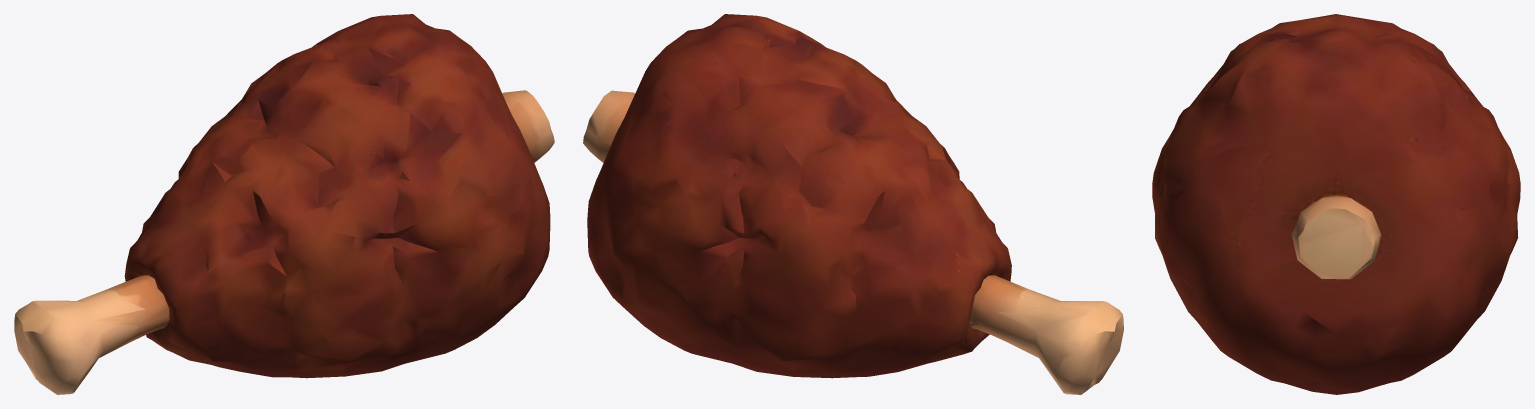
The model's file is meat_cooked_zharenoe_idle.glb.
The picture shows the model from 3 angles, left to right: view 1: azimuth 30°, elevation 25°; view 2: azimuth 150°, elevation 25°; view 3: azimuth 270°, elevation 25°; orthographic projection. The views are drawn at different scales.
Visible parts, largest first — view 1: tripo_node_a4e962f5-7452-4f3d-945a-470e694f3204; view 2: tripo_node_a4e962f5-7452-4f3d-945a-470e694f3204; view 3: tripo_node_a4e962f5-7452-4f3d-945a-470e694f3204.
Part boxes in pixels (left/top/right/bottom): tripo_node_a4e962f5-7452-4f3d-945a-470e694f3204: left=14, top=14, right=554, bottom=394; tripo_node_a4e962f5-7452-4f3d-945a-470e694f3204: left=583, top=14, right=1123, bottom=394; tripo_node_a4e962f5-7452-4f3d-945a-470e694f3204: left=1152, top=14, right=1520, bottom=394.
Size of the model in its own units: 0.1501 by 0.0871 by 0.084.
Materials: 1 (1 with a texture image).
